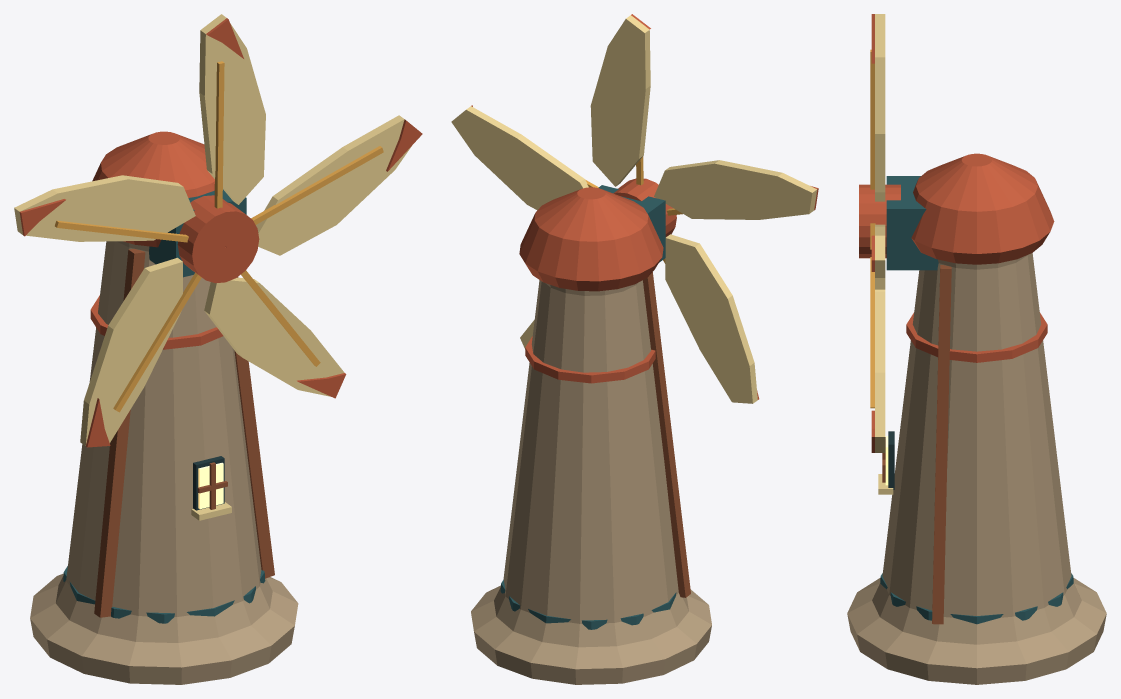
The model's file is turbine.glb.
The picture shows the model from 3 angles, left to right: view 1: azimuth 30°, elevation 25°; view 2: azimuth 150°, elevation 25°; view 3: azimuth 270°, elevation 25°; orthographic projection. The views are drawn at different scales.
Visible parts, largest first — view 1: LOD0, RotorLOD0; view 2: LOD0, RotorLOD0; view 3: LOD0, RotorLOD0.
Boxes of the visible parts, <box> form: LOD0: <box>30,131,298,684</box>; RotorLOD0: <box>14,14,422,447</box>; LOD0: <box>471,185,711,684</box>; RotorLOD0: <box>451,14,818,403</box>; LOD0: <box>847,153,1106,684</box>; RotorLOD0: <box>859,14,900,452</box>.
Size of what is drawn, in the model's own units: 9.32 by 14.38 by 5.44.
